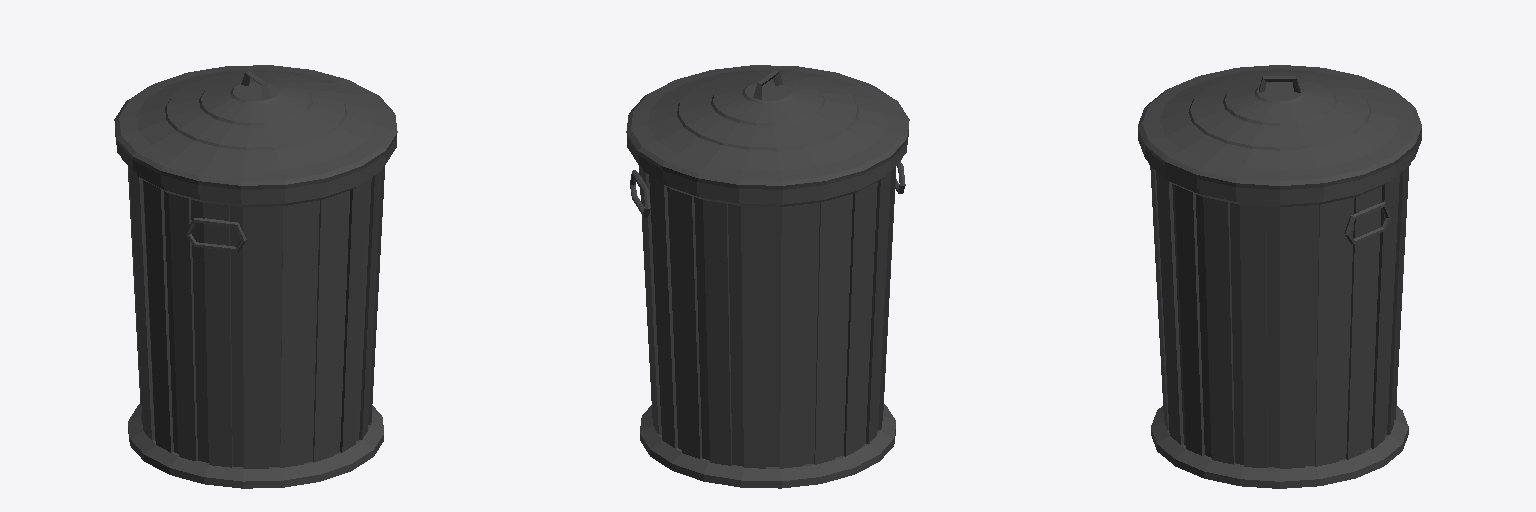
Rendered from garbage_empty.obj.
The picture shows the model from 3 angles: view 1: azimuth 30°, elevation 25°; view 2: azimuth 150°, elevation 25°; view 3: azimuth 270°, elevation 25°; orthographic projection.
Parts seen in each view (by area): view 1: garbage_empty; view 2: garbage_empty; view 3: garbage_empty.
Boxes of the visible parts, x1=… form: garbage_empty: x1=114, y1=65, x2=397, y2=488; garbage_empty: x1=626, y1=65, x2=909, y2=488; garbage_empty: x1=1138, y1=65, x2=1421, y2=488.
Size of the model in its own units: 2.06 by 2.85 by 2.06.